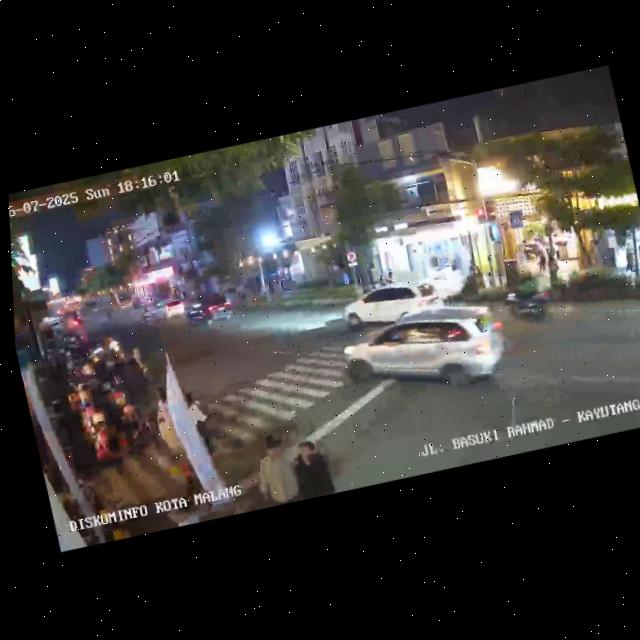car: (335, 291, 515, 416), (338, 277, 445, 333), (182, 289, 233, 329), (152, 297, 188, 325)
motorcycle: (500, 268, 555, 328), (125, 343, 149, 381), (104, 335, 126, 368), (199, 302, 217, 330)
person: (243, 425, 303, 507), (287, 431, 336, 500), (146, 385, 186, 457), (185, 388, 216, 456), (619, 239, 639, 275), (545, 252, 561, 285), (532, 242, 548, 274), (636, 239, 640, 273)
